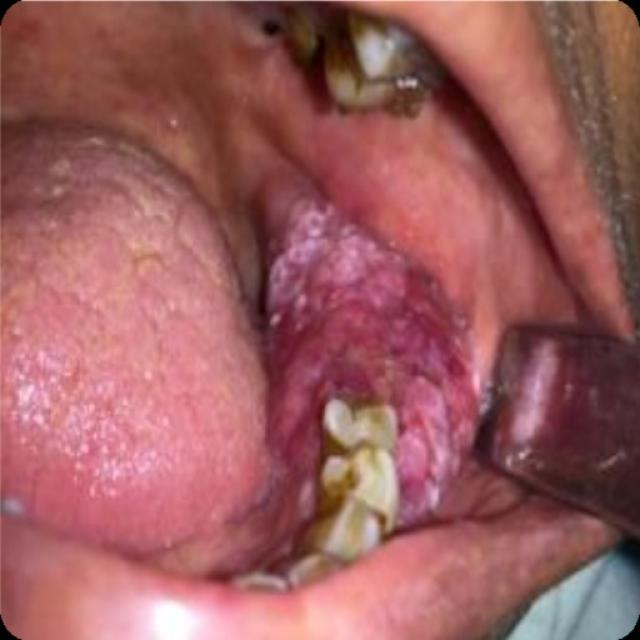cancer-detection: (250, 185, 476, 549)
processing_area: (2, 0, 595, 589)
